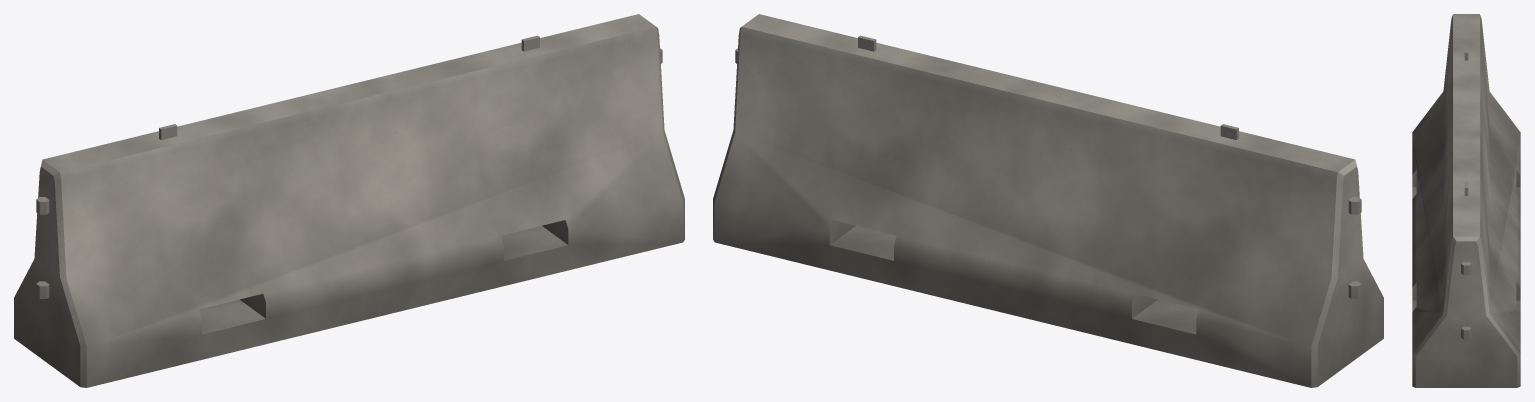
File: concrete_barrier.glb
3 renders of one model, left to right at view 1: azimuth 30°, elevation 25°; view 2: azimuth 150°, elevation 25°; view 3: azimuth 270°, elevation 25°, orthographic. The views are drawn at different scales.
Visible parts, largest first — view 1: concrete_barrier; view 2: concrete_barrier; view 3: concrete_barrier.
Part boxes in pixels (x1,y1,x2,y2): concrete_barrier: (14,14,684,387); concrete_barrier: (713,14,1383,387); concrete_barrier: (1412,14,1520,387).
Size of the model in its own units: 3.09 by 0.98 by 0.61.
2 materials, 1 textured.
